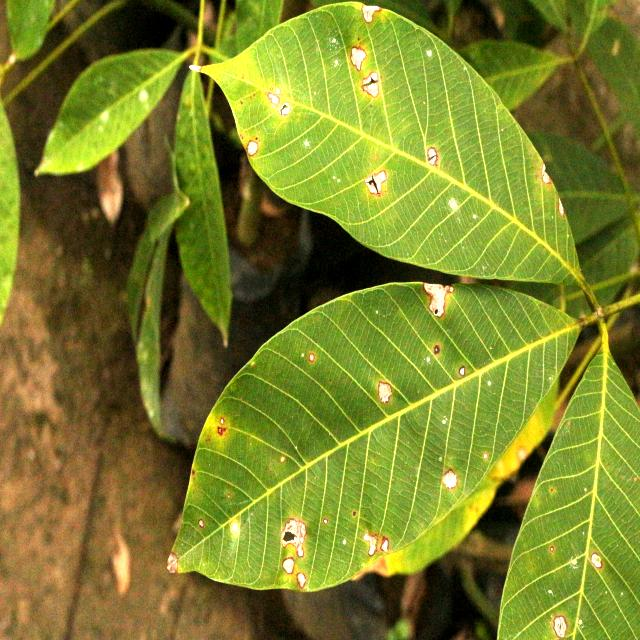Colletotrichum: (427, 146, 438, 166), (458, 365, 465, 376), (309, 352, 315, 362), (434, 345, 440, 354), (220, 418, 225, 424), (550, 546, 554, 551)
